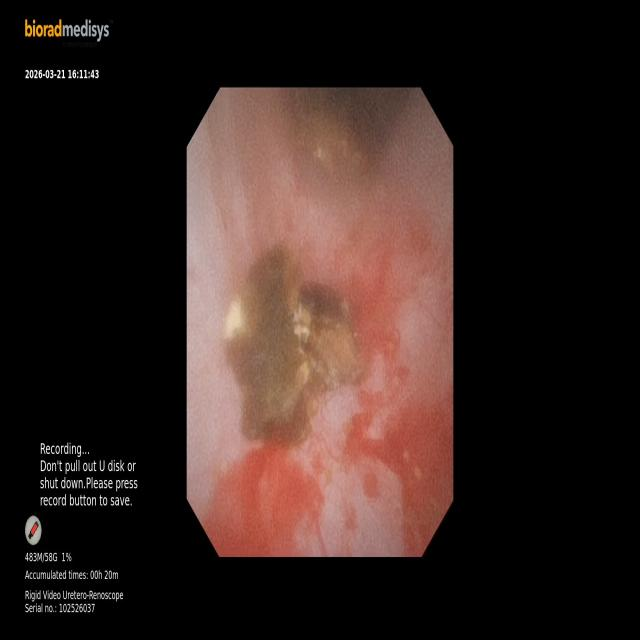stone-new: (225, 247, 363, 444)
